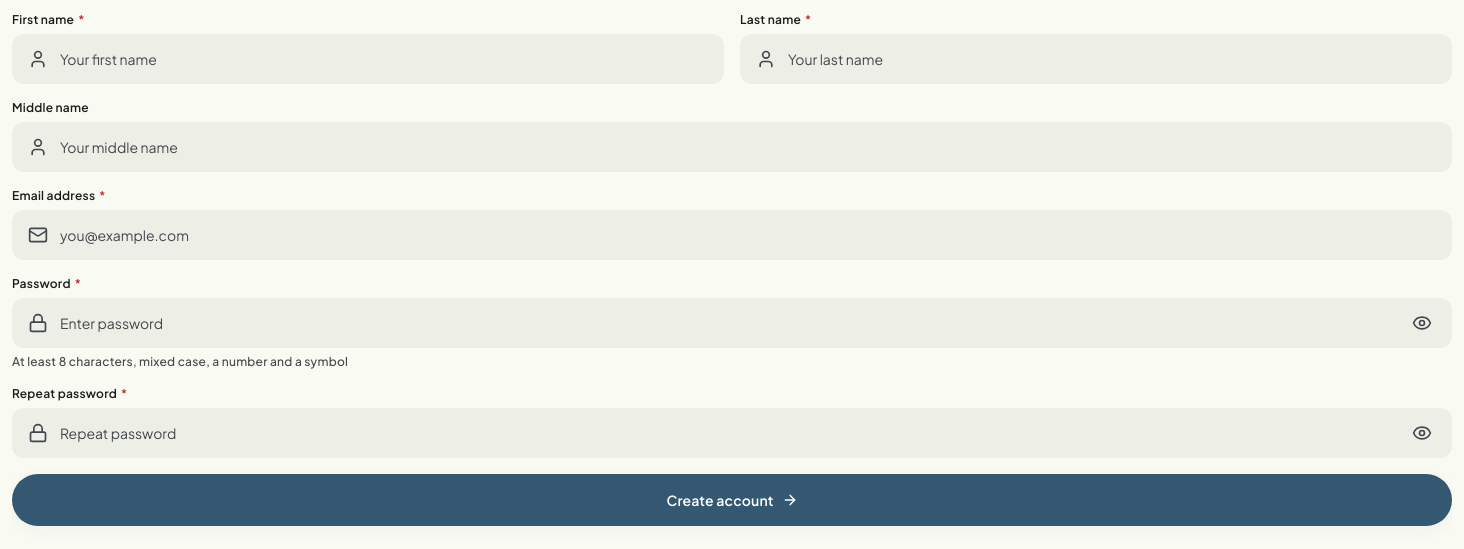
Test: RegisterForm › replaces the hint with a strength rating once typing starts
The width and height of the screenshot is (1464, 549).
Expected: the text "At least 8 characters, mixed case, a number and a symbol" is shown, [12,354,348,369]
Type "chores12" into the password field labelled "Password". click: (732, 323)
box: [12,298,1452,348]
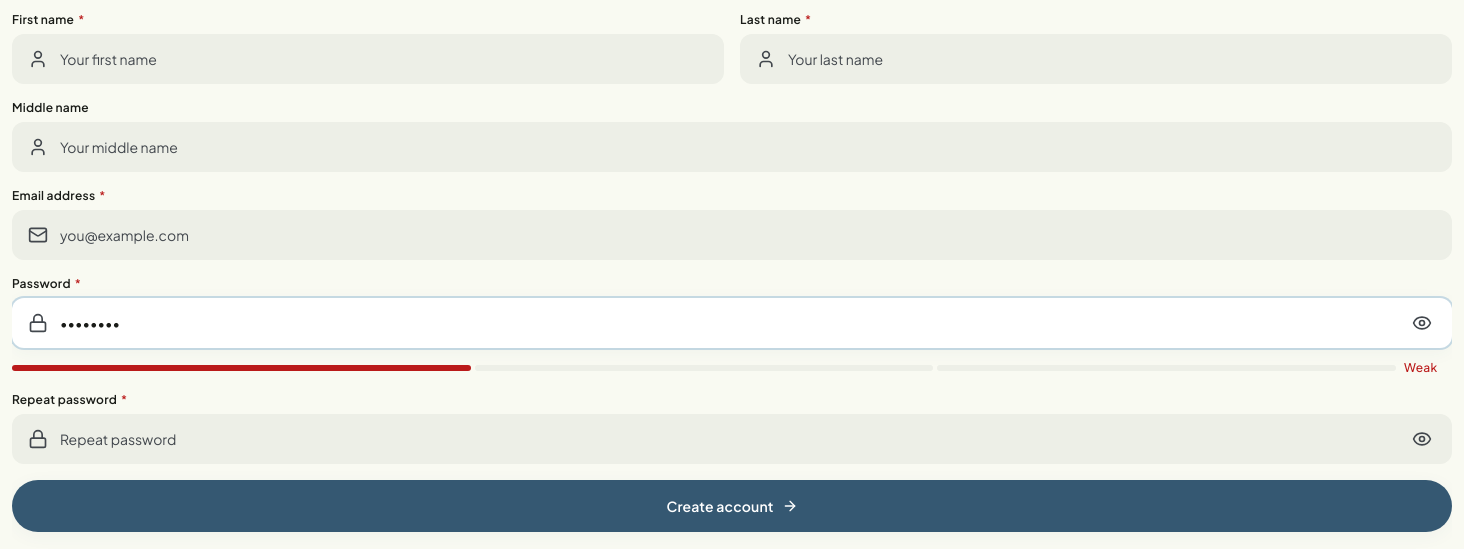
Expected: the text "mixed case" is gone
Expected: the text "Weak" is shown, [1404,360,1437,375]
